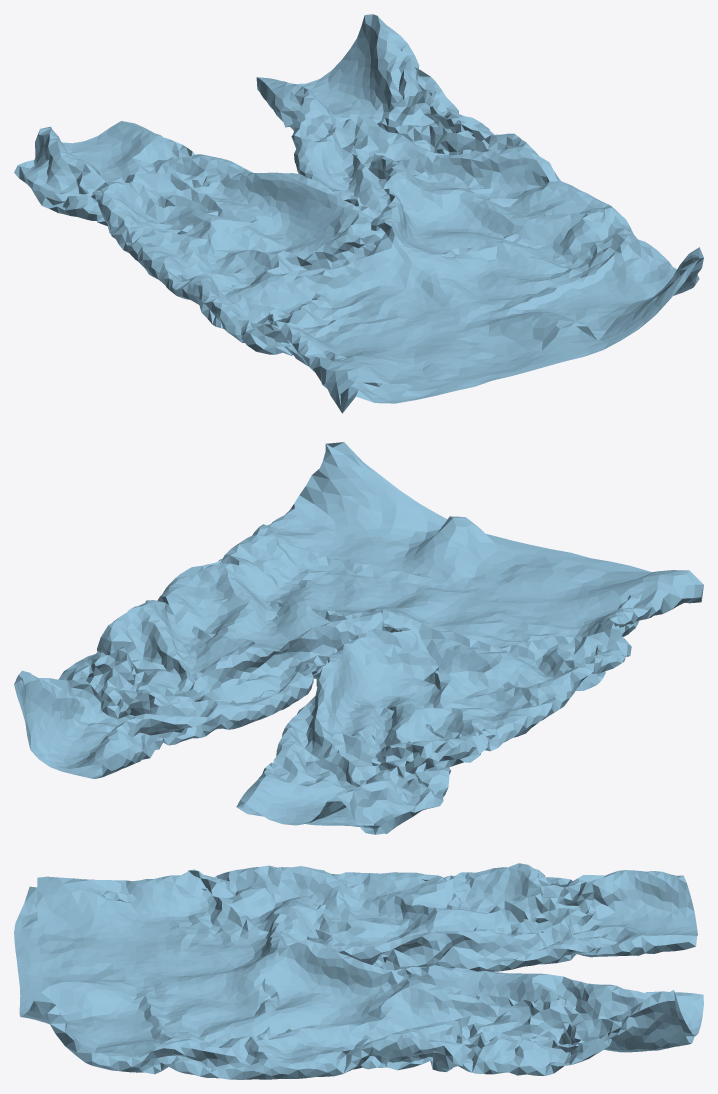
Rendered from frame_02.glb.
3 renders of one model, top to bottom at view 1: azimuth 30°, elevation 25°; view 2: azimuth 150°, elevation 25°; view 3: azimuth 270°, elevation 25°, orthographic. The views are drawn at different scales.
Parts seen in each view (by area): view 1: frame_02.obj; view 2: frame_02.obj; view 3: frame_02.obj.
Boxes of the visible parts, bbox=[...] form: frame_02.obj: bbox=[14, 14, 703, 413]; frame_02.obj: bbox=[14, 442, 703, 834]; frame_02.obj: bbox=[14, 863, 703, 1079].
Size of the model in its own units: 1.2 by 0.2174 by 1.75.
